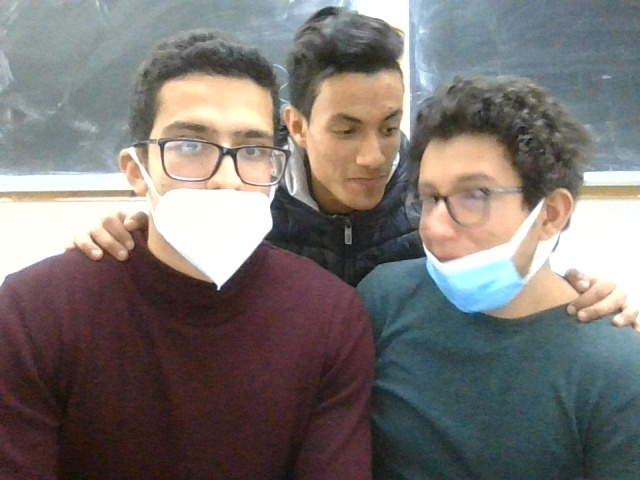mask_weared_incorrect: (125, 46, 289, 291)
without_mask: (292, 8, 421, 206)
